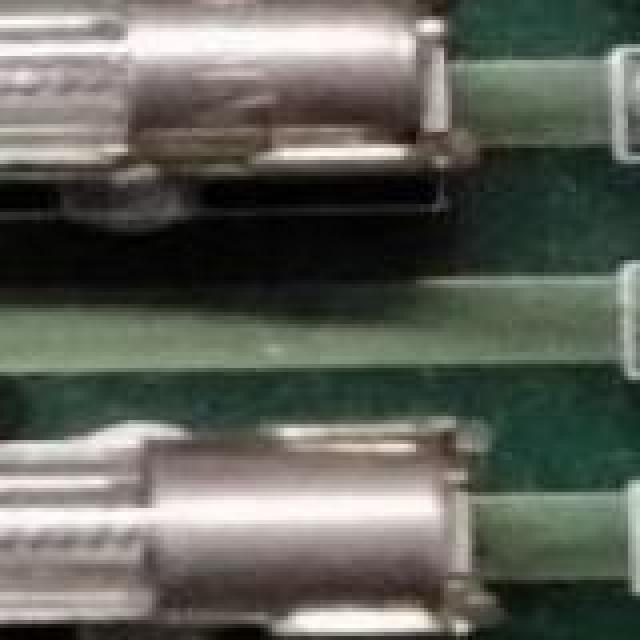fuse: (0, 404, 500, 640), (0, 0, 476, 200)
